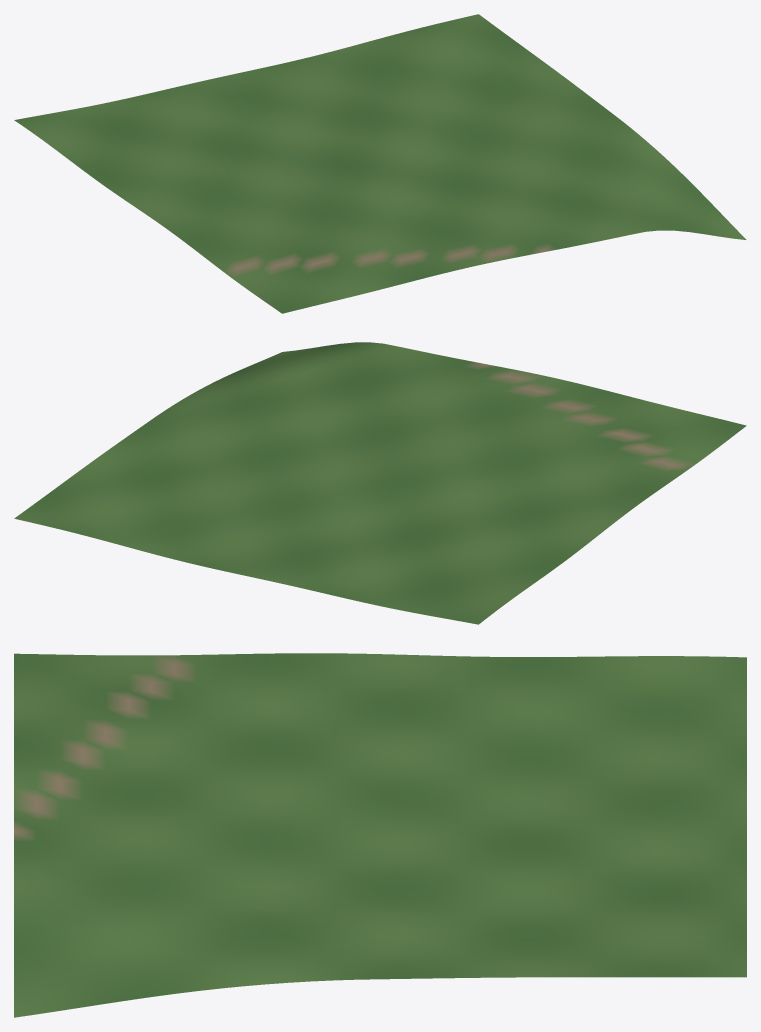
The model's file is chunk_3_2.glb.
3 views of the same model, one above another, from view 1: azimuth 30°, elevation 25°; view 2: azimuth 150°, elevation 25°; view 3: azimuth 270°, elevation 25° (orthographic). The views are drawn at different scales.
Size of the model in its own units: 512 by 43.49 by 512.
